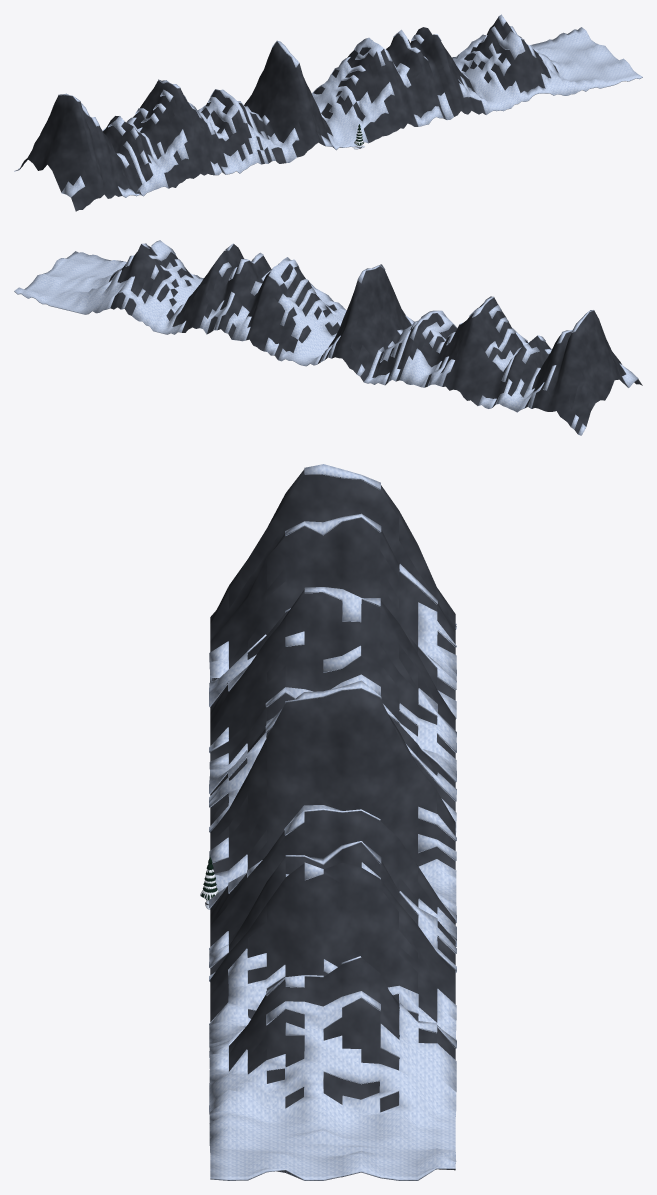
File: nature.glb
3 views of the same model, one above another, from view 1: azimuth 30°, elevation 25°; view 2: azimuth 150°, elevation 25°; view 3: azimuth 270°, elevation 25° (orthographic). The views are drawn at different scales.
Parts seen in each view (by area): view 1: Mountains; view 2: Mountains; view 3: Mountains.
Part boxes in pixels (box(x1,y1,x2,y2)): Mountains: box(14, 14, 642, 211); Mountains: box(14, 240, 642, 435); Mountains: box(209, 464, 456, 1180).
Bounding box in the file's own units: 320 × 51.36 × 62.81.
6 materials, 6 textured.
